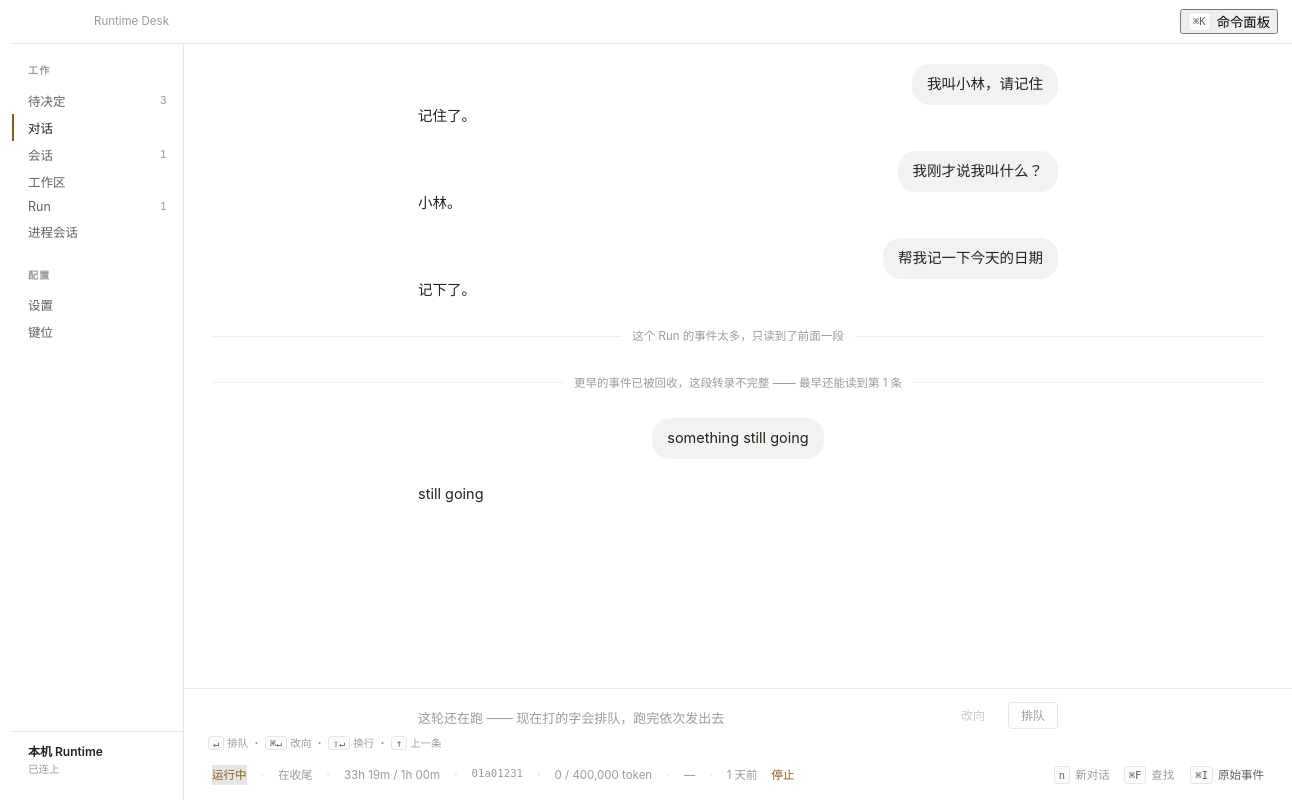
finding text in a transcript › finds the words in a note about the log, which are words on the screen
The image size is (1292, 800).
Expected: the text "更早的事件已被回收，这段转录不完整 —— 最早还能读到第 1 条" is shown, [574,372,902,394]
Type keys "{Meta>}f{/Meta}"
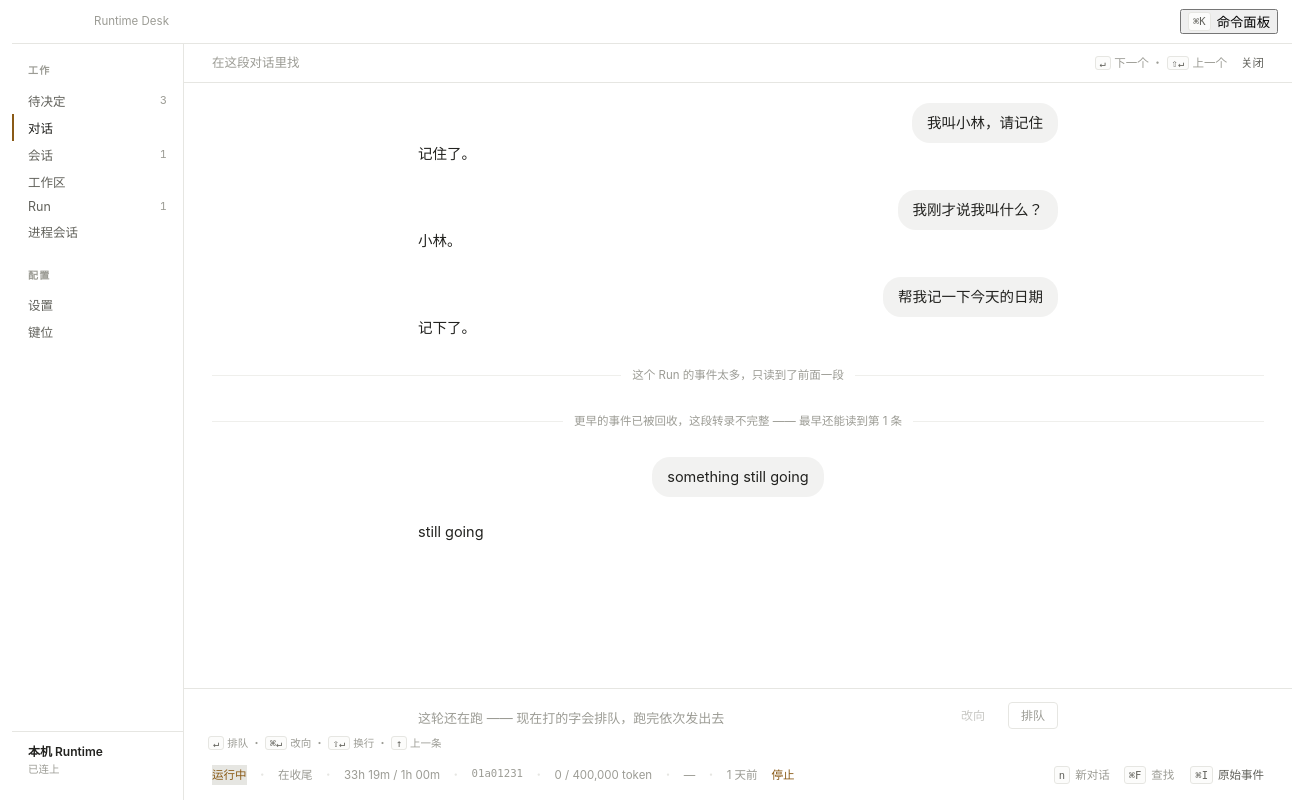
In the field with placeholder "在这段对话里找": {"x": 393, "y": 63} [212,52,575,74], type "读到"
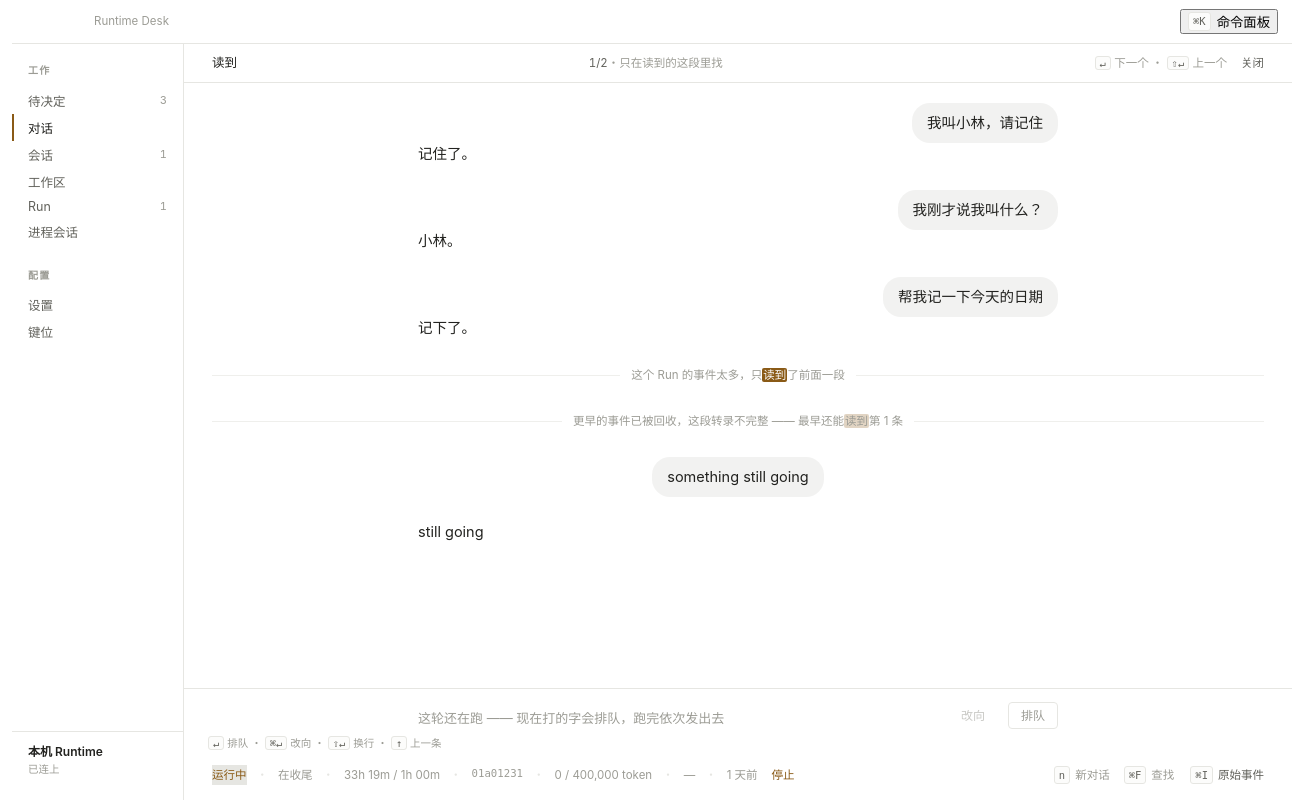
Expected: the element showing "这个 Run 的事件太多，只读到了前面一段" is shown, [631,368,845,382]
Expected: the element with class "tally" reads "1/2・只在读到的这段里找", [589,53,723,73]
